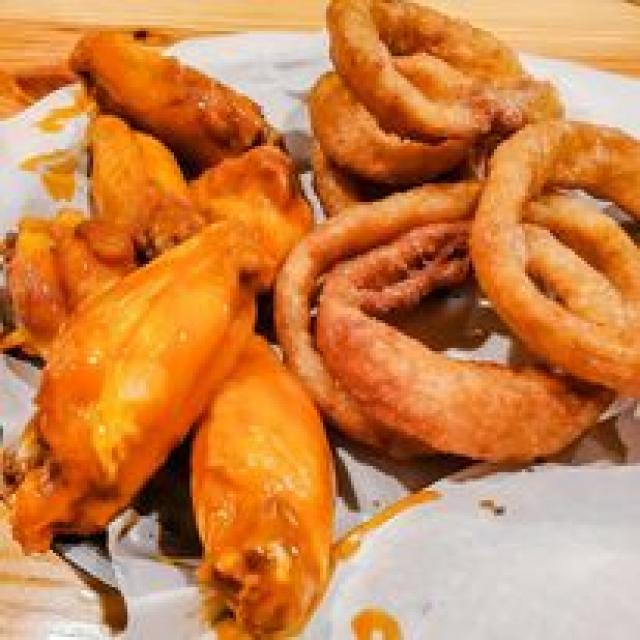Chicken Wings: (12, 18, 342, 624)
Onion Rings: (273, 3, 637, 469)
